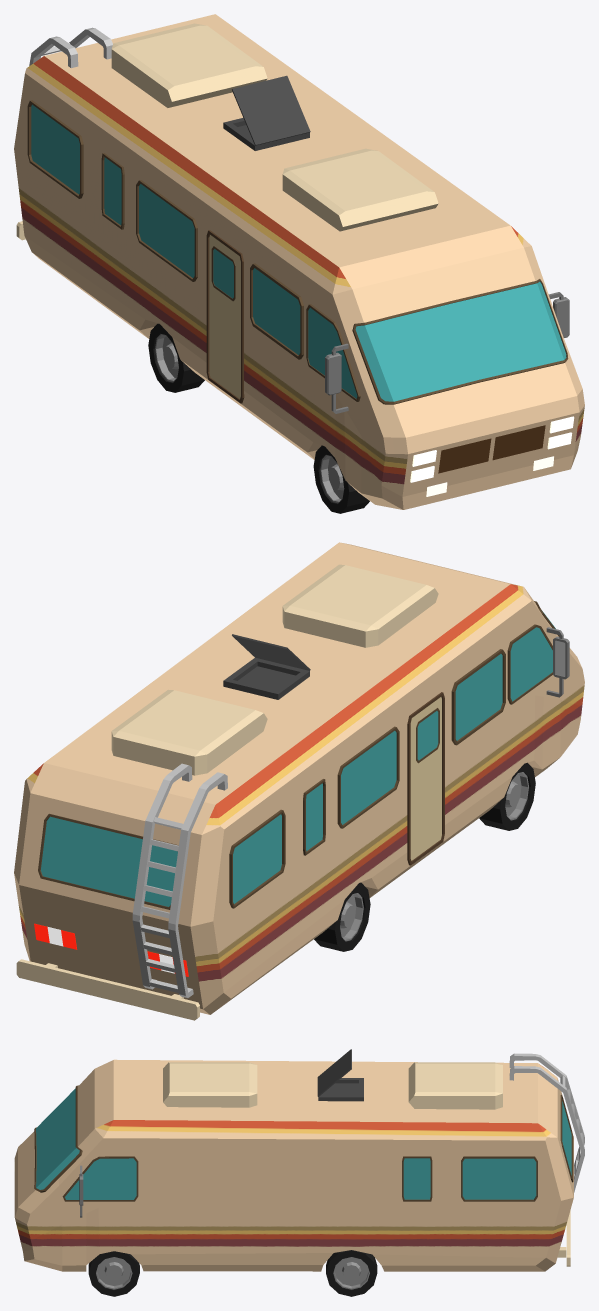
File: env_30.glb
3 renders of one model, top to bottom at view 1: azimuth 30°, elevation 25°; view 2: azimuth 150°, elevation 25°; view 3: azimuth 270°, elevation 25°, orthographic. The views are drawn at different scales.
Parts seen in each view (by area): view 1: Cube_Material.003_0, Cube.001, Cube.004, Cube.005, Plane.008, Plane.006, Plane.004, Cube.009, Plane.001, Plane, Plane.013, Plane.011 (+9 smaller); view 2: Cube_Material.003_0, Cube.004, Cube.005, Plane.012, Cube.020, Plane.008, Plane.006, Plane.004, Cube.003, Plane.001, Plane, Cube.008 (+9 smaller); view 3: Cube_Material.003_0, Cube.004, Cube.005, Plane.004, Cube.001, Plane, Cube.020, Plane.011, Circle.003_Material.001_0, Circle.002_Material.001_0, Circle.002_Material.002_0, Circle.003_Material.002_0 (+4 smaller).
Part boxes in pixels (left/top/right/bottom): Cube_Material.003_0: left=14, top=14, right=584, bottom=509; Cube.001: left=352, top=279, right=568, bottom=404; Cube.004: left=111, top=23, right=267, bottom=107; Cube.005: left=282, top=148, right=438, bottom=231; Plane.008: left=206, top=230, right=244, bottom=403; Plane.006: left=136, top=180, right=197, bottom=281; Plane.004: left=27, top=100, right=83, bottom=198; Cube.009: left=232, top=75, right=310, bottom=145; Plane.001: left=250, top=263, right=303, bottom=359; Plane: left=306, top=304, right=360, bottom=401; Plane.013: left=438, top=425, right=545, bottom=473; Plane.011: left=101, top=153, right=124, bottom=229; Cube_Material.003_0: left=14, top=542, right=584, bottom=1014; Cube.004: left=111, top=689, right=267, bottom=775; Cube.005: left=282, top=564, right=438, bottom=647; Plane.012: left=38, top=813, right=178, bottom=909; Cube.020: left=132, top=763, right=227, bottom=997; Plane.008: left=407, top=692, right=444, bottom=865; Plane.006: left=337, top=726, right=399, bottom=828; Plane.004: left=229, top=809, right=285, bottom=908; Cube.003: left=16, top=959, right=199, bottom=1020; Plane.001: left=451, top=649, right=505, bottom=745; Plane: left=507, top=624, right=552, bottom=704; Cube.008: left=223, top=657, right=309, bottom=699; Cube_Material.003_0: left=14, top=1059, right=573, bottom=1271; Cube.004: left=408, top=1062, right=502, bottom=1109; Cube.005: left=163, top=1062, right=257, bottom=1107; Plane.004: left=461, top=1156, right=537, bottom=1201; Cube.001: left=34, top=1085, right=82, bottom=1192; Plane: left=62, top=1156, right=138, bottom=1201; Cube.020: left=509, top=1053, right=584, bottom=1192; Plane.011: left=402, top=1156, right=432, bottom=1201; Circle.003_Material.001_0: left=326, top=1250, right=377, bottom=1296; Circle.002_Material.001_0: left=88, top=1251, right=139, bottom=1296; Circle.002_Material.002_0: left=96, top=1257, right=132, bottom=1289; Circle.003_Material.002_0: left=333, top=1257, right=369, bottom=1289.
Size of the model in its own units: 1.72 by 1.94 by 4.9.
17 materials, 1 textured.
